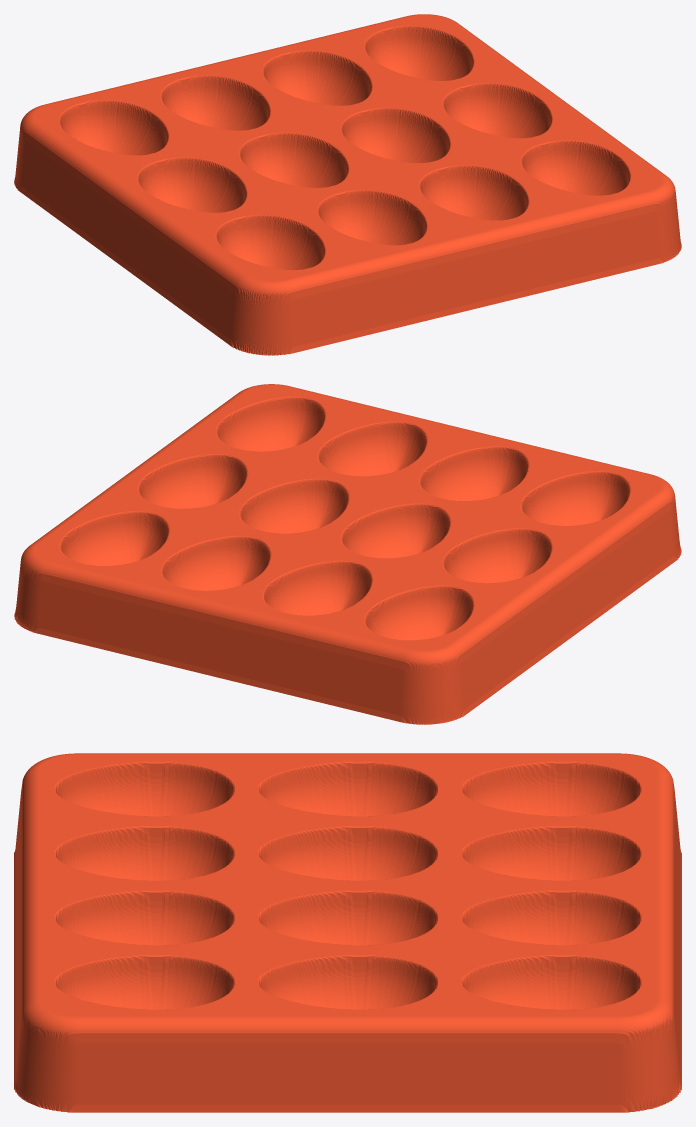
The model's file is mold.glb.
3 views of the same model, one above another, from view 1: azimuth 30°, elevation 25°; view 2: azimuth 150°, elevation 25°; view 3: azimuth 270°, elevation 25° (orthographic). The views are drawn at different scales.
Visible parts, largest first — view 1: geometry_0; view 2: geometry_0; view 3: geometry_0.
Part boxes in pixels (bbox=[...]): geometry_0: bbox=[14, 14, 681, 355]; geometry_0: bbox=[14, 384, 681, 724]; geometry_0: bbox=[14, 753, 681, 1112].
Bounding box in the file's own units: 0.0963 × 0.0136 × 0.0963.
